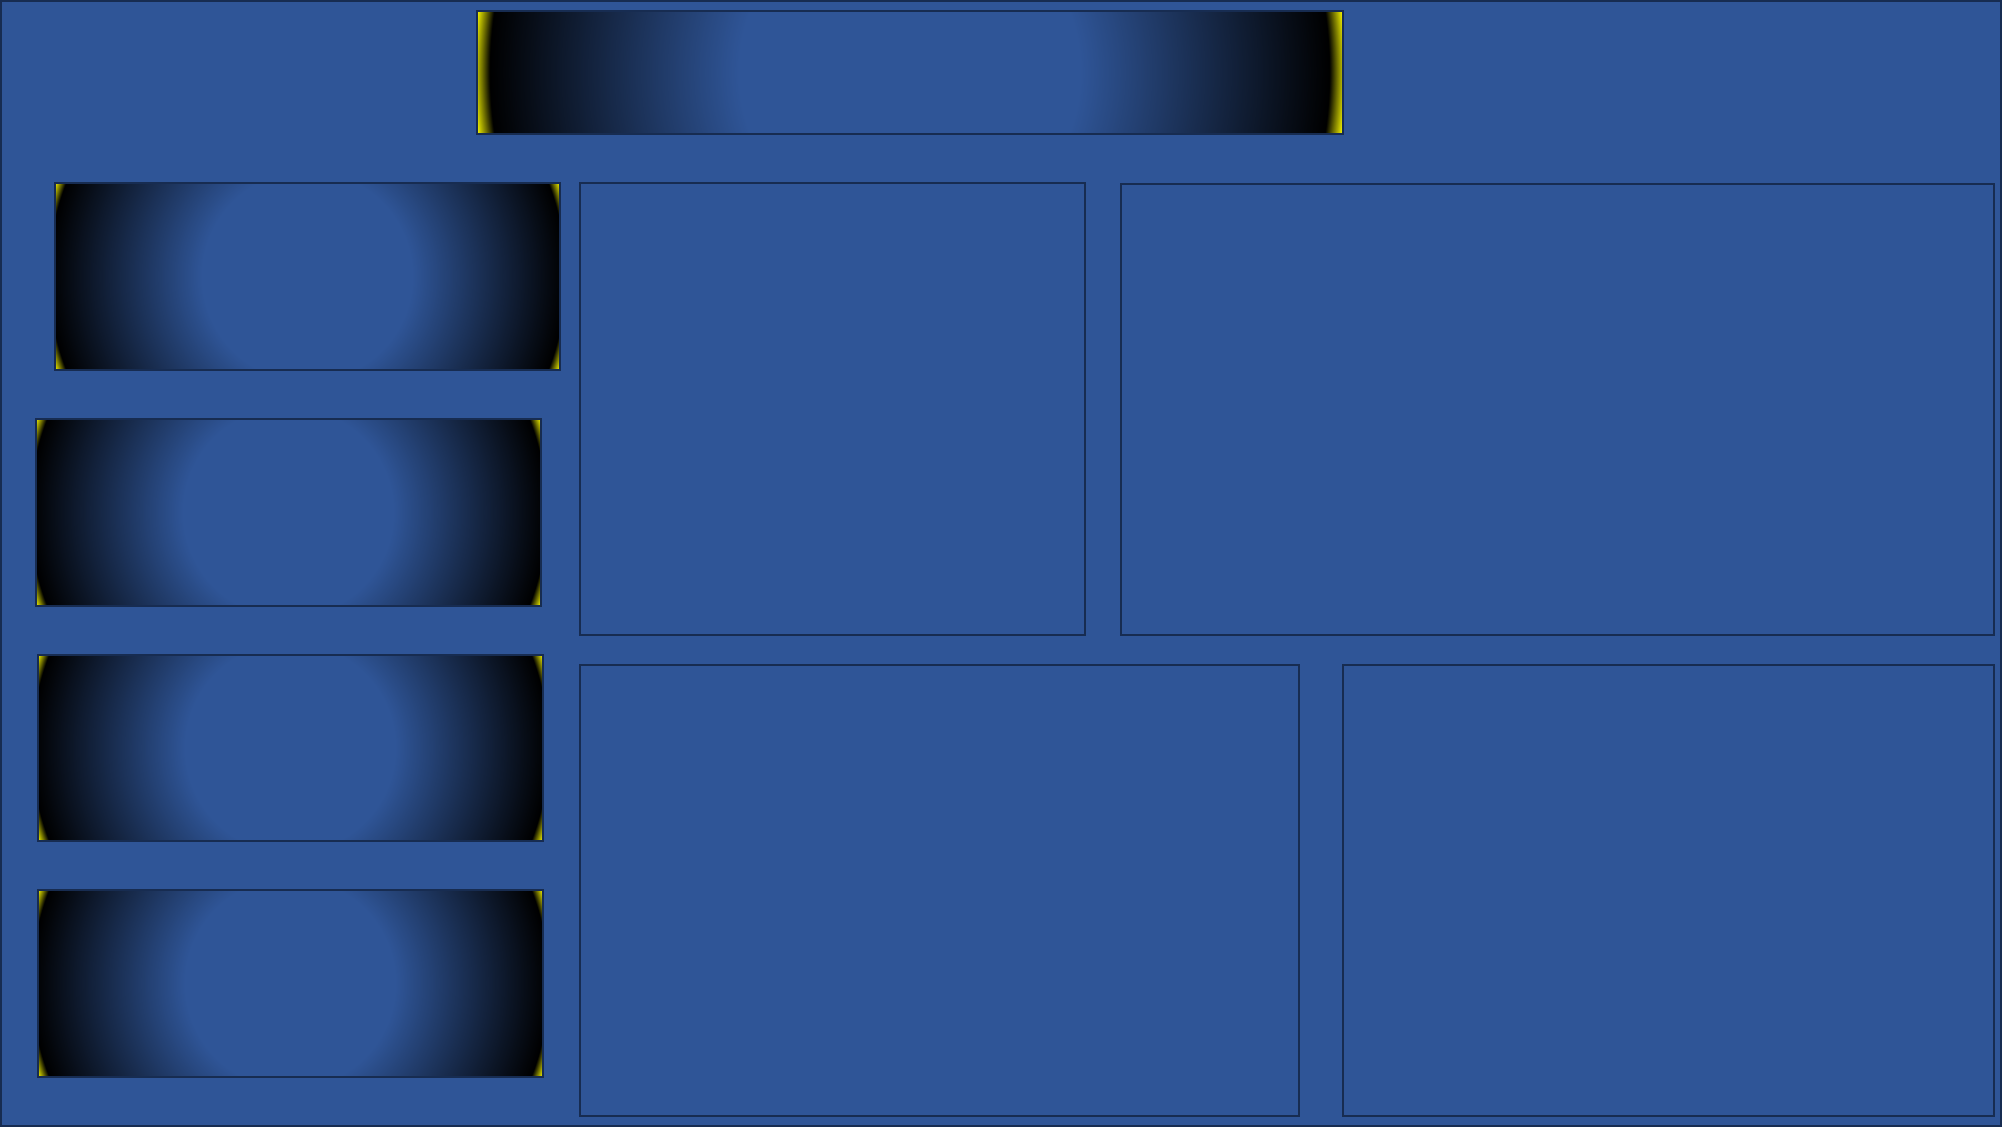

Layout of this report page (visuals, bound fields, positions):
{"tool":"powerbi","page":{"name":"Page 1","canvas":[1280,720],"ordinal":0},"visuals":[{"type":"pieChart","title":"Order Status in Weekday & Weekend","fields":{"Category":["olist_orders_dataset.Weekdays/Weekend"],"Y":["CountNonNull(olist_orders_dataset.order_status)"]},"box":[372.7,117.2,326.3,289.9],"z":0},{"type":"columnChart","title":"Types of Payment in Review score 5","fields":{"Y":["CountNonNull(olist_order_items_dataset.order_id)"],"Series":["olist_order_reviews_dataset.review_score"],"Category":["olist_order_payments_dataset.payment_type"]},"box":[372.7,423.2,457.6,288.9],"z":1000},{"type":"card","title":"Average of shipping Days for Pet_Shop","fields":{"Values":["Avg(olist_orders_dataset.Shipping Days)"]},"box":[23.2,270.7,318.2,116.2],"z":2000},{"type":"clusteredColumnChart","title":"Average of Payment Value & Price Sao Paulo","fields":{"Y":["Avg(olist_order_items_dataset.price)","Avg(olist_order_payments_dataset.payment_value)"],"Category":["olist_customers_dataset.customer_city"]},"box":[860.6,423.2,411.1,288.9],"z":3000},{"type":"scatterChart","title":"Average of Shipping Days VS review_score","fields":{"Y":["Avg(olist_orders_dataset.Shipping Days)"],"X":["olist_order_reviews_dataset.review_score"]},"box":[719.2,117.2,560.6,289.9],"z":4000},{"type":"advancedSlicerVisual","title":"Order Purchase Year","fields":{"Values":["olist_orders_dataset.order_purchase_timestamp.Variation.Date Hierarchy.Year"]},"box":[31.3,117.2,327.3,120.2],"z":5000},{"type":"cardVisual","title":"Total Orders","fields":{"Data":["CountNonNull(olist_orders_dataset.order_status)"]},"box":[31.3,423.2,310.1,107.1],"z":6000},{"type":"cardVisual","title":"No of Orders with review score 5 & Credit Card","fields":{"Data":["CountNonNull(olist_order_items_dataset.order_id)"]},"box":[23.2,567.7,318.2,123.2],"z":7000},{"type":"textbox","box":[425.3,18.2,374.7,55.6],"z":8000}]}

Visuals, with their boxes in screenshot pixels (x1, y1, x2, y2), scaled from the page's 1280x720 canvas onto the 2002x1127 screenshot:
"Order Status in Weekday & Weekend" pieChart: bbox=(583, 183, 1093, 637)
"Types of Payment in Review score 5" columnChart: bbox=(583, 662, 1299, 1115)
"Average of shipping Days for Pet_Shop" card: bbox=(36, 424, 534, 606)
"Average of Payment Value & Price Sao Paulo" clusteredColumnChart: bbox=(1346, 662, 1989, 1115)
"Average of Shipping Days VS review_score" scatterChart: bbox=(1125, 183, 2001, 637)
"Order Purchase Year" advancedSlicerVisual: bbox=(49, 183, 561, 372)
"Total Orders" cardVisual: bbox=(49, 662, 534, 830)
"No of Orders with review score 5 & Credit Card" cardVisual: bbox=(36, 889, 534, 1081)
textbox: bbox=(665, 28, 1251, 116)
